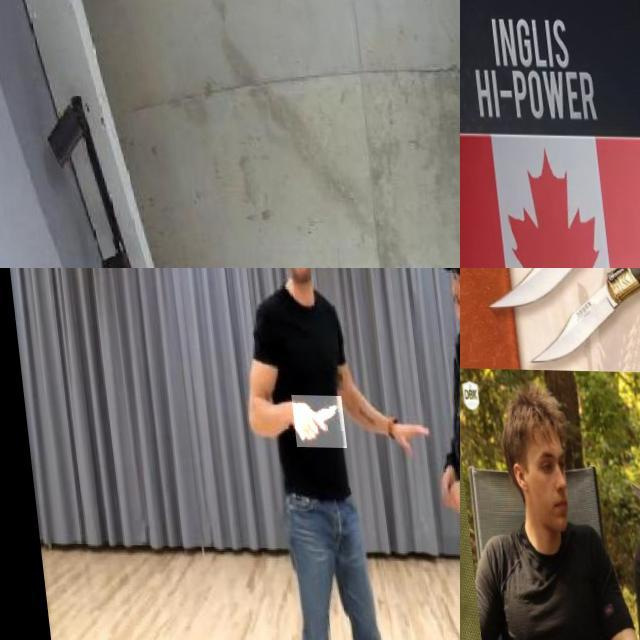-: (460, 528, 542, 640), (460, 268, 571, 324), (516, 304, 610, 364), (473, 268, 587, 311), (460, 268, 565, 307), (284, 394, 338, 447), (613, 471, 640, 561)
